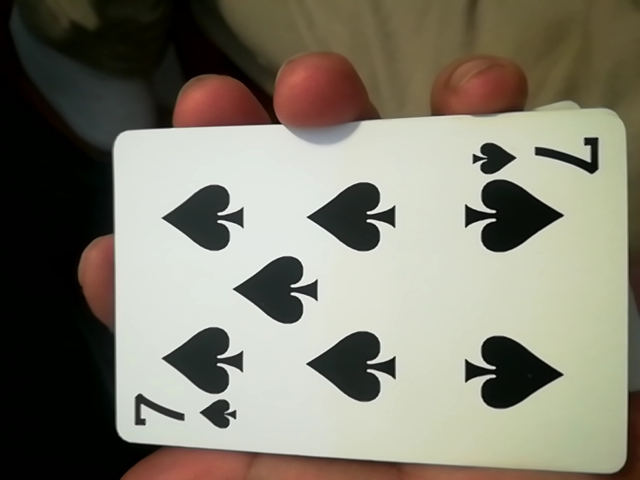ht 7: (90, 112, 630, 478)
